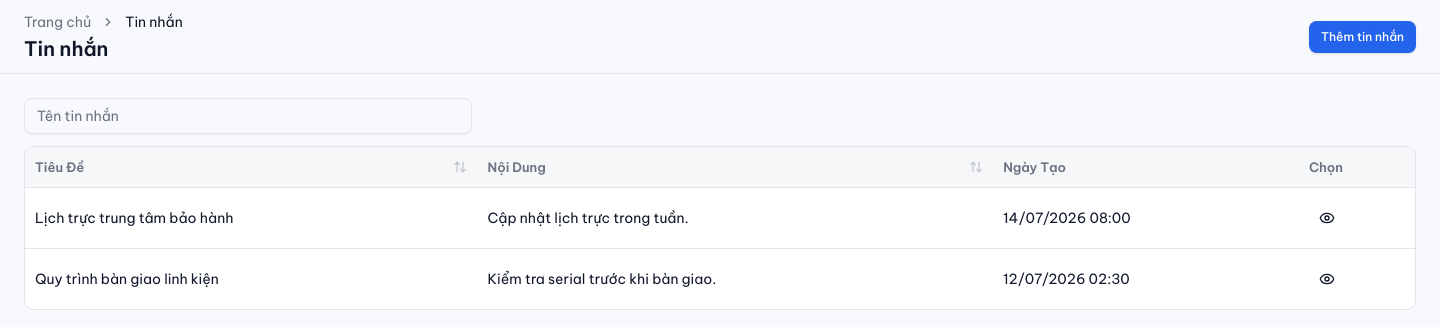
Test case: TinTucPage › searches news by title through the resource list query
Expected: the text "Lịch trực trung tâm bảo hành" is shown, [25,187,478,248]
Type "Lịch trực trung tâm bảo hành" into the search field named "Tìm kiếm" at (248,116), box [24,98,472,134]
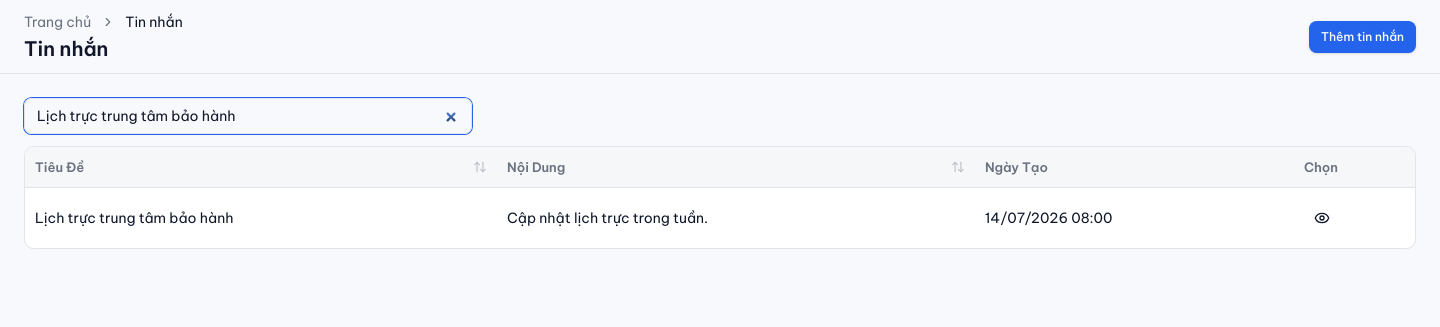
Expected: the text "Lịch trực trung tâm bảo hành" is shown, [25,187,497,248]
Now the text "Quy trình bàn giao linh kiện" is gone
